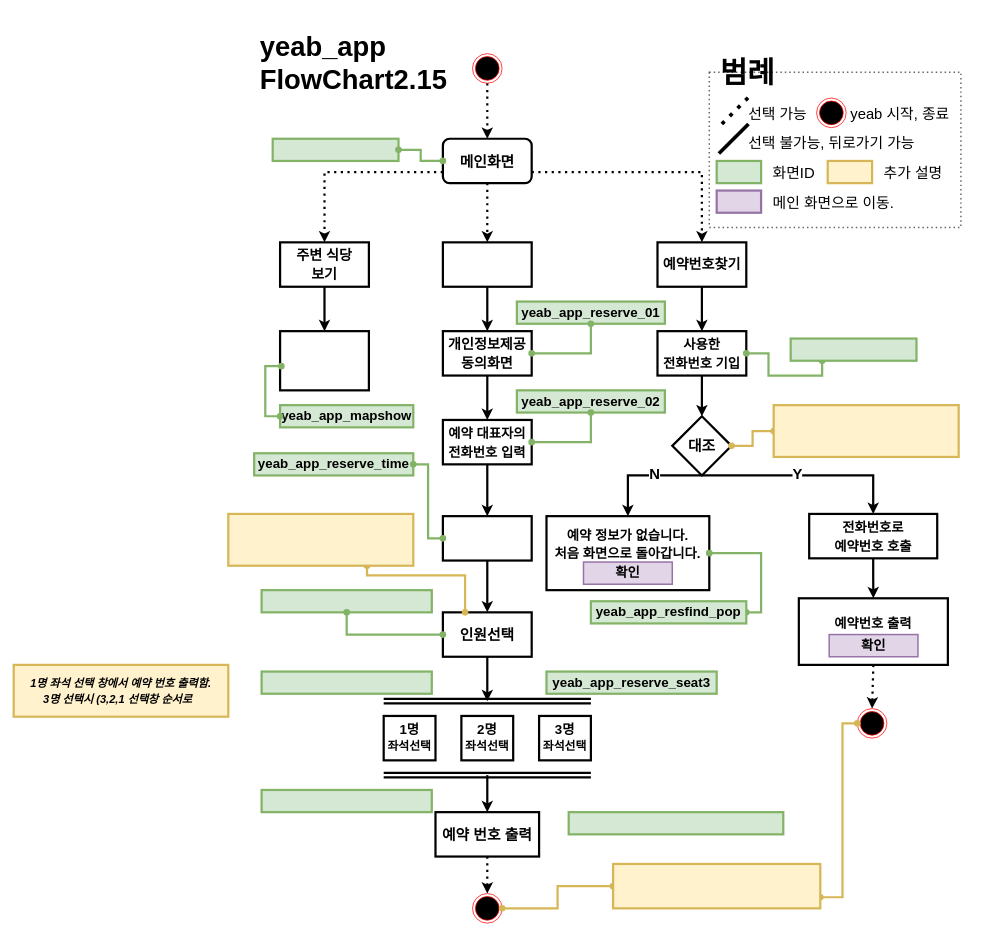
Image size: 981x936. Some labels were removed from this diagram. Each missing label, with the centre of its shape:
BE단에서 전화번호 기입과 동시에 Hash 사용, 해당 전화번호가 firebase에 있는지 확인.: point (865, 431)
yeab_app_main_01: point (335, 149)
yeab_app_reserve_person: point (346, 601)
yeab_app_reserve_rescodeprint: point (675, 823)
yeab_app_reserve_seat1: point (346, 682)
yeab_app_reserve_seat2: point (346, 800)
yeab_app_resfind01: point (853, 349)
시간선택: point (486, 538)
예약하기: point (486, 264)
인원 = 좌석 버튼 선택 가능 횟수. if (선택한 인원!=좌석) Toast메시지 출력.: point (320, 539)
종료 || 메인 화면으로 이동 메인 화면에 앱 종료 기능 넣어둬야 함.: point (716, 885)
학교로부터 1KM 이내 식당 지도 출력: point (324, 360)
